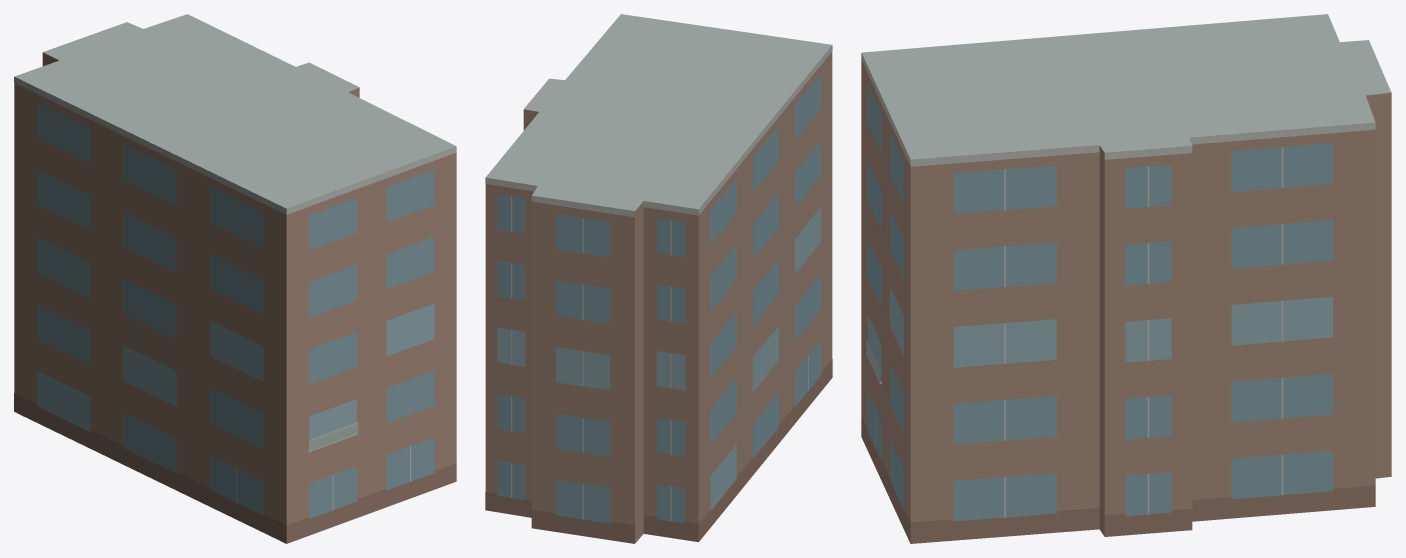
File: survey-upis-32881867.glb
3 renders of one model, left to right at view 1: azimuth 30°, elevation 25°; view 2: azimuth 150°, elevation 25°; view 3: azimuth 270°, elevation 25°, orthographic. The views are drawn at different scales.
Parts seen in each view (by area): view 1: survey-upis-32881867.tmp; view 2: survey-upis-32881867.tmp; view 3: survey-upis-32881867.tmp.
Boxes of the visible parts, bbox=[...] form: survey-upis-32881867.tmp: bbox=[14, 14, 456, 543]; survey-upis-32881867.tmp: bbox=[485, 14, 832, 543]; survey-upis-32881867.tmp: bbox=[861, 14, 1391, 543].
Size of the model in its own units: 10.7 by 13.15 by 16.45.
